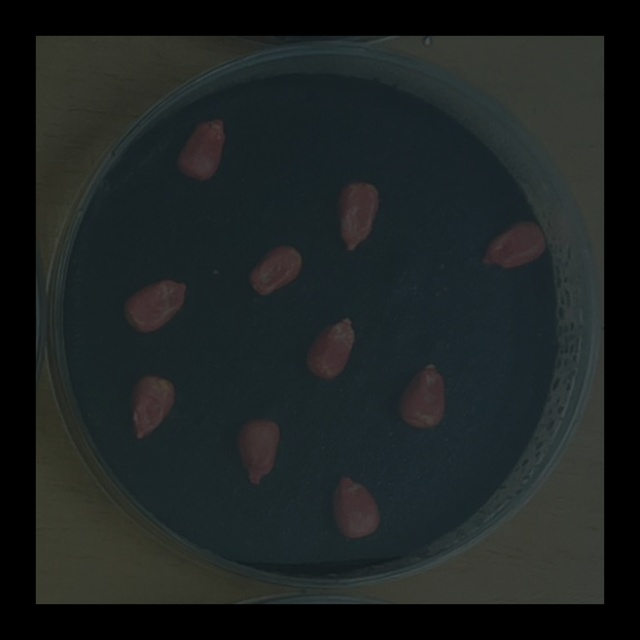Zea mays: (117, 273, 192, 338), (473, 213, 552, 274), (391, 355, 451, 435), (324, 467, 384, 544), (171, 110, 229, 186), (230, 411, 285, 489), (331, 174, 383, 256), (301, 310, 359, 383), (242, 238, 307, 302), (123, 367, 177, 443)
